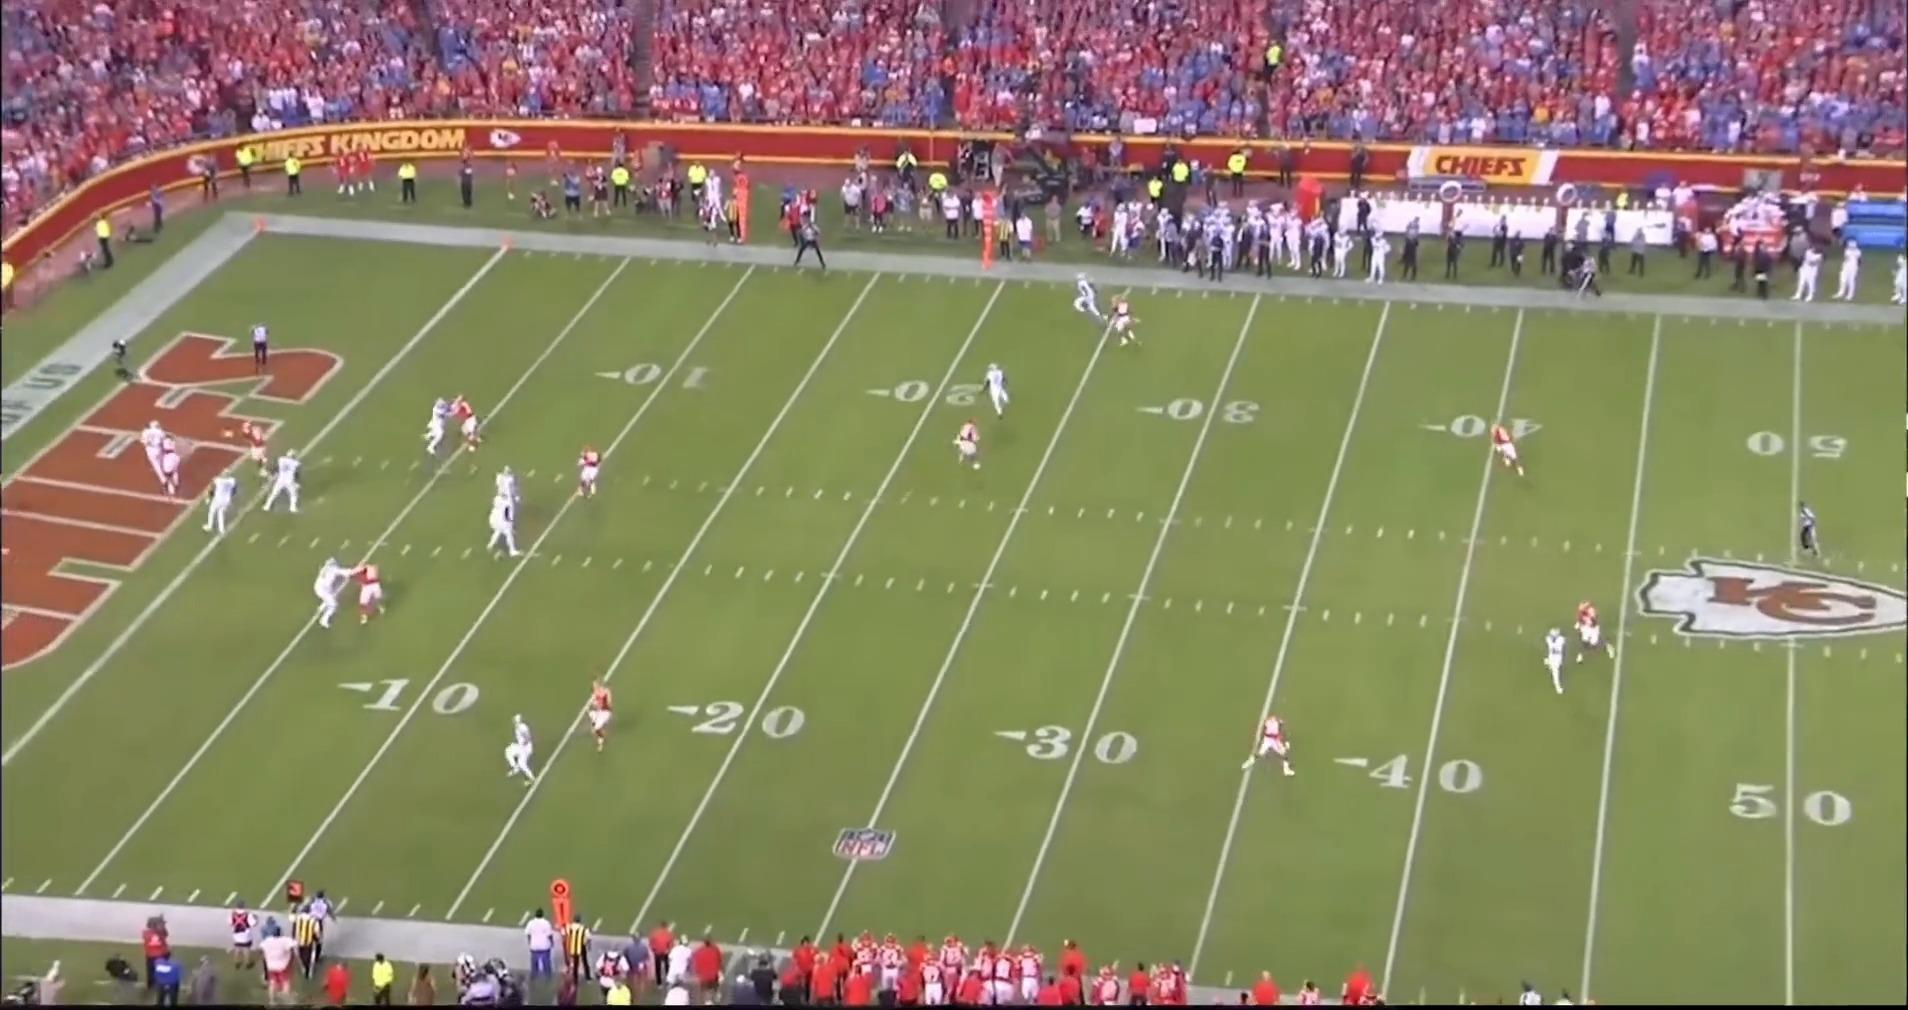defense: (1234, 715, 1293, 781), (1572, 600, 1616, 665), (579, 678, 617, 751), (448, 393, 488, 453), (151, 428, 184, 502), (1492, 423, 1531, 481), (357, 559, 391, 625), (574, 443, 611, 504), (240, 419, 273, 478), (949, 418, 983, 473), (1105, 297, 1141, 350)
oline: (314, 552, 358, 627), (265, 447, 309, 514), (197, 468, 236, 535), (485, 491, 522, 558), (493, 466, 526, 542)
qb: (141, 415, 169, 489)
ref: (1793, 494, 1827, 563), (302, 886, 338, 941), (789, 220, 827, 271), (1570, 254, 1603, 306), (246, 318, 273, 381)
skill: (498, 716, 536, 787), (418, 395, 457, 457), (1066, 268, 1107, 326), (1536, 626, 1566, 701), (982, 359, 1012, 419)
